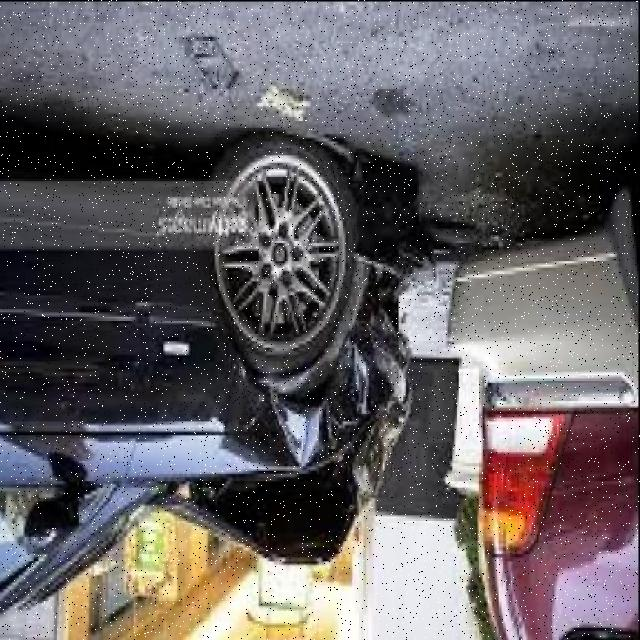damage: (152, 243, 423, 565)
